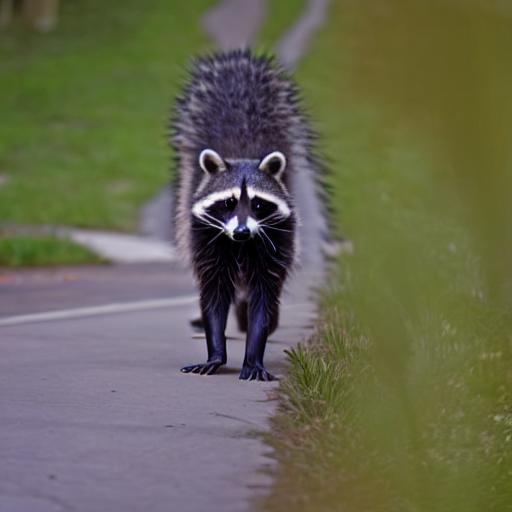raccoon: (168, 108, 308, 300)
